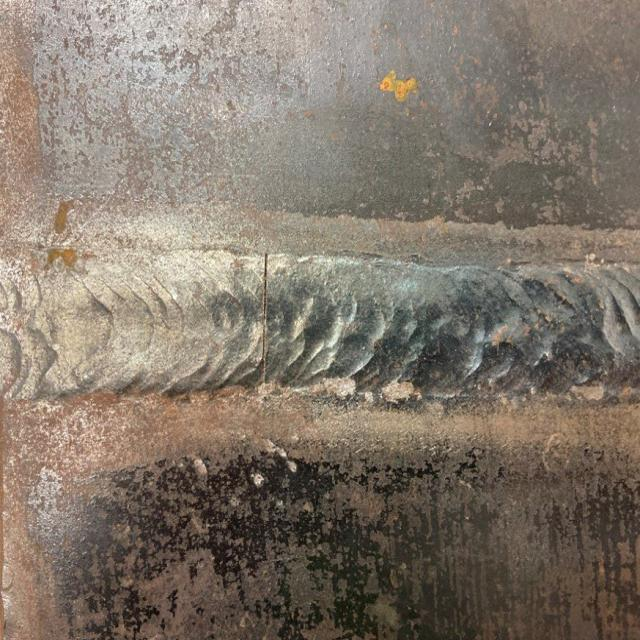Dry: (259, 252, 269, 390)
